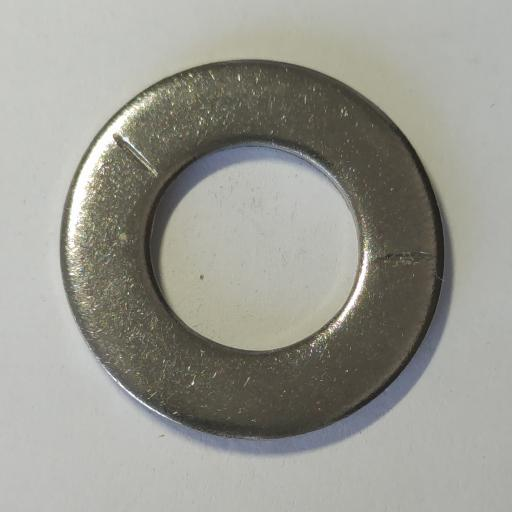scratch: (112, 132, 159, 178), (375, 251, 437, 265)
